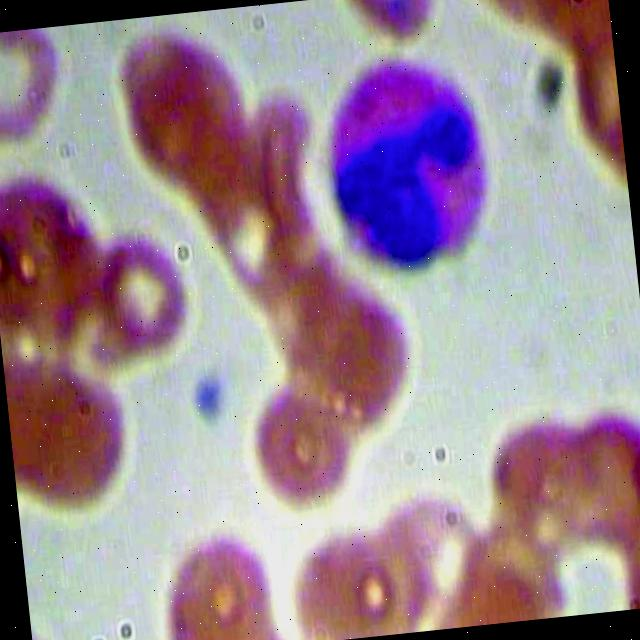Platelets: (186, 363, 233, 432)
WBC: (304, 35, 517, 291)
